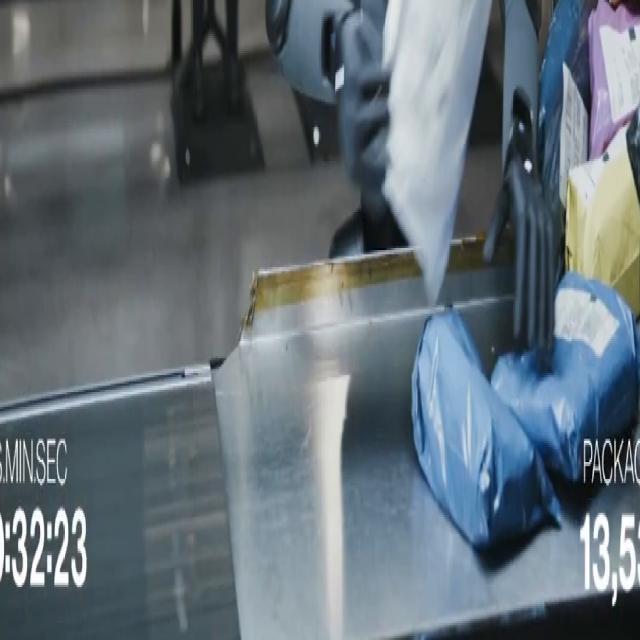package: (413, 310, 560, 550), (383, 0, 491, 305), (492, 272, 639, 481), (566, 128, 639, 317), (537, 0, 596, 220), (589, 0, 639, 158)
